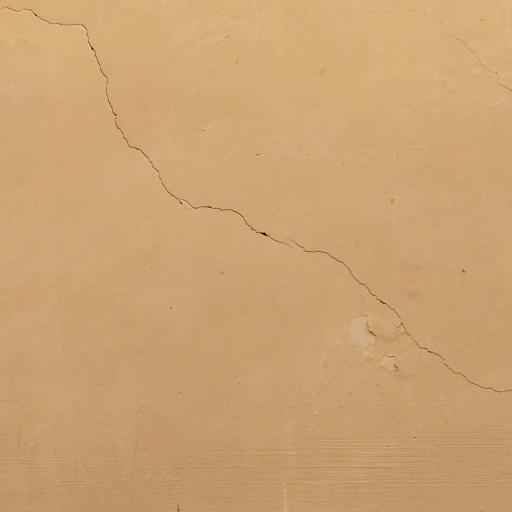minor_crack: (0, 0, 512, 394)
